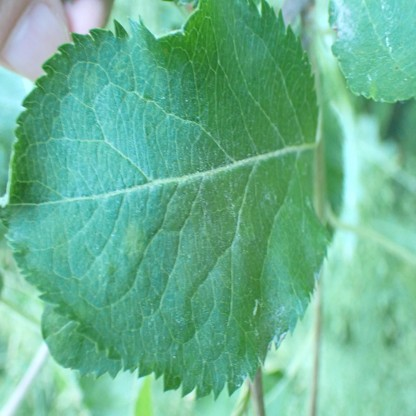powdery_mildew: (332, 0, 355, 44)
scab: (120, 219, 144, 253), (369, 85, 377, 100)
